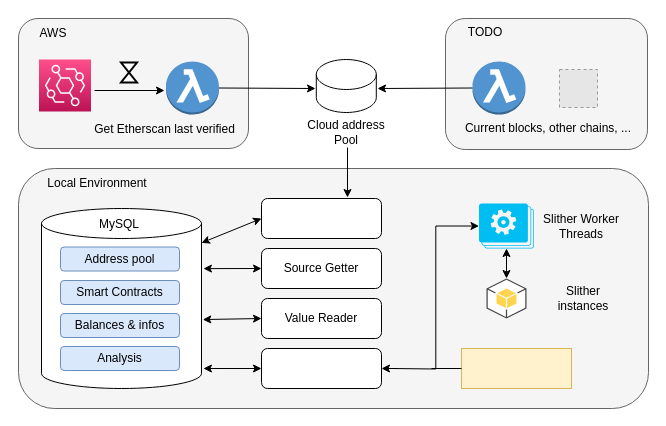
This 666x426 diagram has some shape labels left out. Grey dashed boxes stand in for pictures. Here are the shapes that lost their labels. From the top down, the centre of each, then its label:
the point at 321,218: Buffer Downloader
the point at 321,368: Slither Manager
the point at 516,368: Custom detectors
